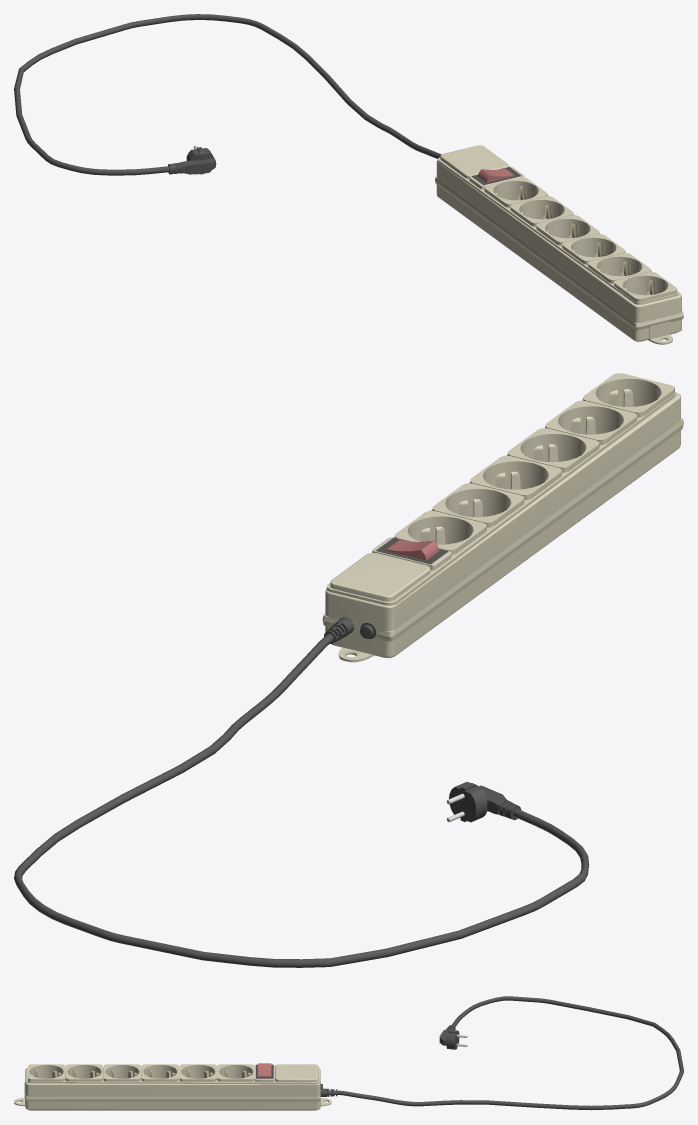
The model's file is power.glb.
The picture shows the model from 3 angles, top to bottom: view 1: azimuth 30°, elevation 25°; view 2: azimuth 150°, elevation 25°; view 3: azimuth 270°, elevation 25°; orthographic projection. The views are drawn at different scales.
Parts seen in each view (by area): view 1: polySurface103; view 2: polySurface103; view 3: polySurface103.
Part boxes in pixels (x1,y1,x2,y2): polySurface103: (14, 14, 683, 344); polySurface103: (14, 373, 683, 967); polySurface103: (14, 996, 683, 1110).
Size of the model in its own units: 6.62 by 1.15 by 17.04.
